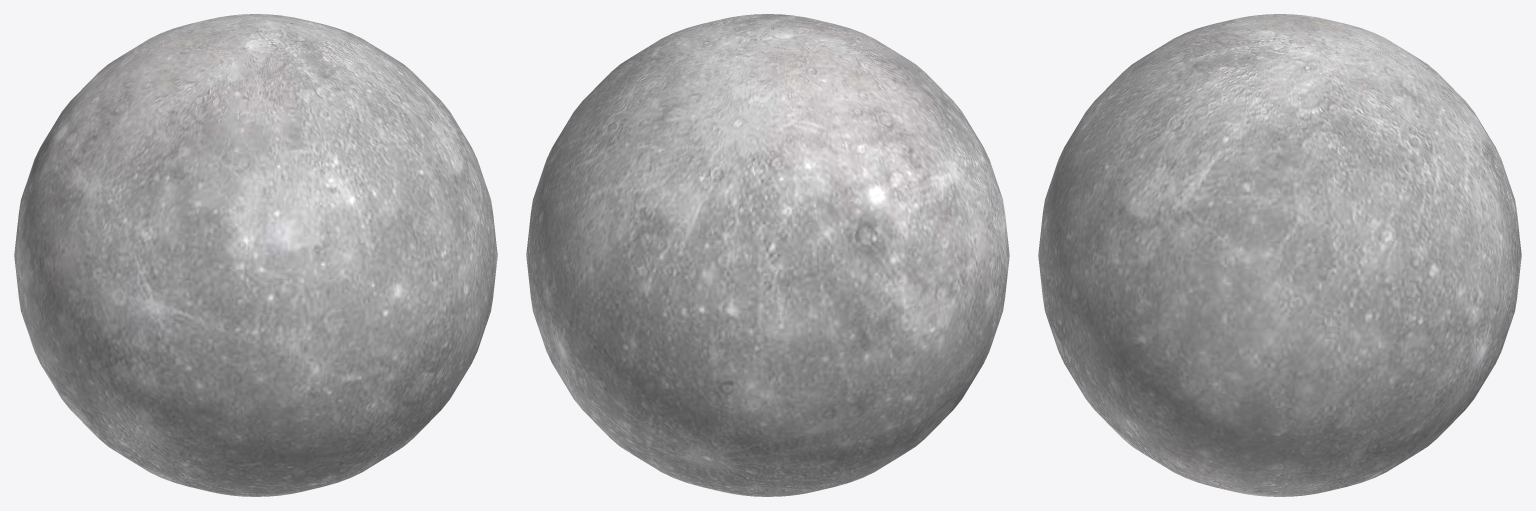
The model's file is mercury.glb.
3 views of the same model, side by side, from view 1: azimuth 30°, elevation 25°; view 2: azimuth 150°, elevation 25°; view 3: azimuth 270°, elevation 25° (orthographic).
Visible parts, largest first — view 1: Mercury; view 2: Mercury; view 3: Mercury.
Boxes of the visible parts, x1=… form: Mercury: x1=14, y1=14, x2=497, y2=496; Mercury: x1=526, y1=14, x2=1009, y2=496; Mercury: x1=1038, y1=14, x2=1521, y2=496.
Size of the model in its own units: 24 by 24 by 24.
1 material, 1 textured.
